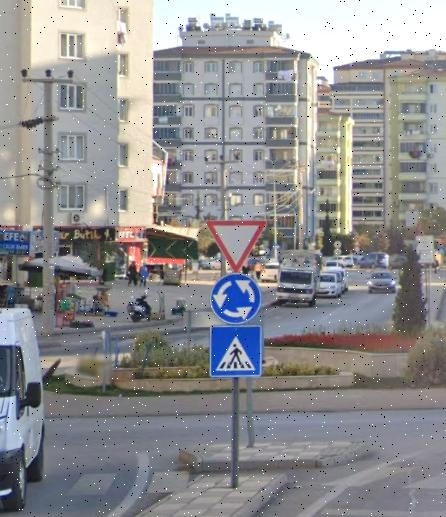crossroads: (212, 275, 260, 320)
